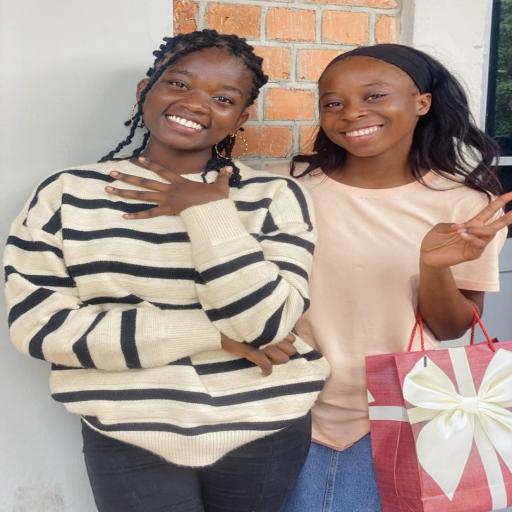LAURENE: (129, 25, 275, 165)
